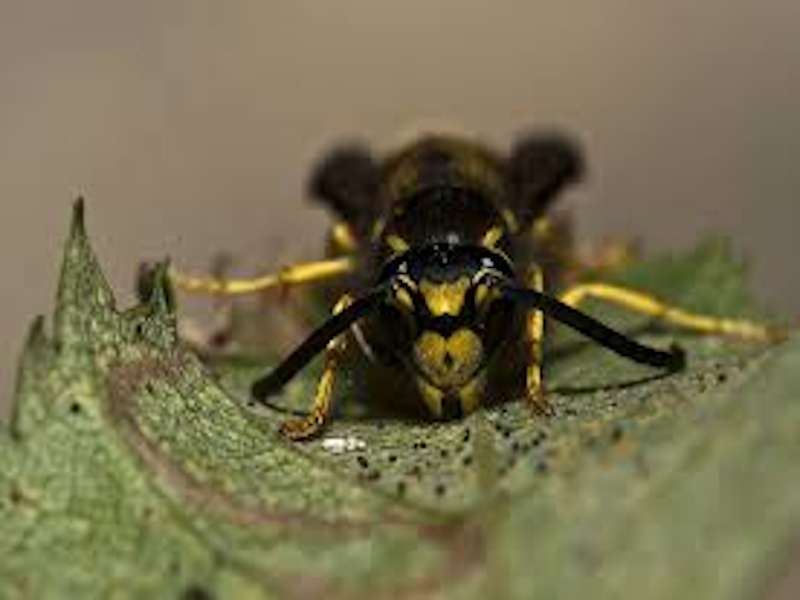chax: (162, 94, 786, 417)
